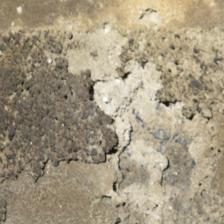Crack: (21, 5, 103, 103), (6, 87, 116, 123)
